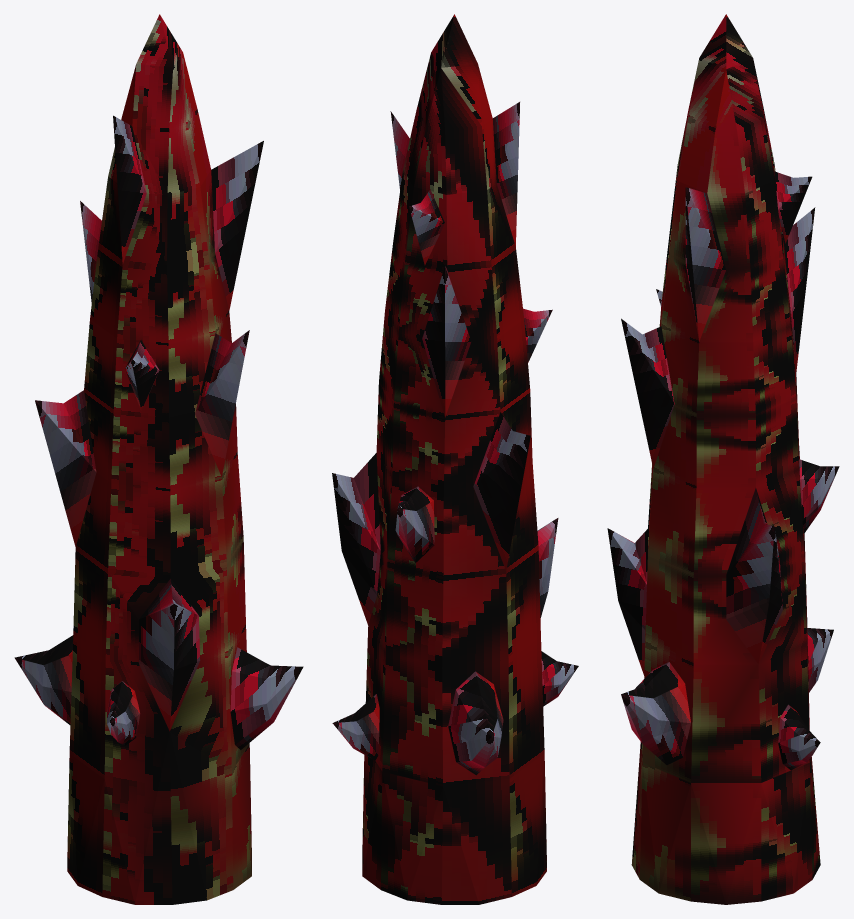
The model's file is darkvine-lod0.glb.
3 renders of one model, left to right at view 1: azimuth 30°, elevation 25°; view 2: azimuth 150°, elevation 25°; view 3: azimuth 270°, elevation 25°, orthographic.
Parts seen in each view (by area): view 1: darkvine-lod0; view 2: darkvine-lod0; view 3: darkvine-lod0.
Part boxes in pixels (x1,y1,x2,y2): darkvine-lod0: (14, 14, 303, 904); darkvine-lod0: (332, 14, 578, 904); darkvine-lod0: (607, 14, 839, 904).
Bounding box in the file's own units: 1.22 × 5 × 1.24.
2 materials, 2 textured.
